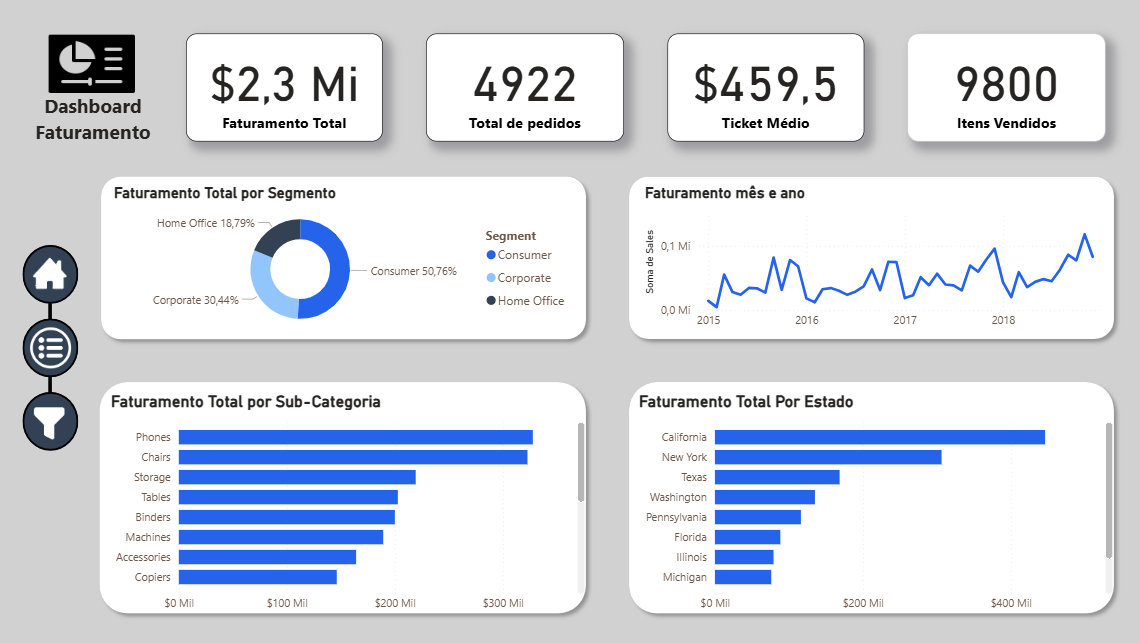

The page's visual inventory and layout, read from the dashboard file:
{"tool":"powerbi","page":{"name":"Visão Geral","canvas":[1280,720],"ordinal":1},"visuals":[{"type":"shape","box":[19.9,274.3,77.9,225],"z":0},{"type":"shape","box":[27.8,436.6,62,65.2],"z":1000},{"type":"shape","box":[27.8,355.4,62,65.2],"z":2000},{"type":"shape","box":[27.8,272.7,62,65.2],"z":3000},{"type":"image","box":[35.8,447.7,46.1,46.1],"z":4000},{"type":"image","box":[27.8,355.4,62,65.2],"z":5000},{"type":"image","box":[19.9,271.1,77.9,70],"z":6000},{"type":"textbox","box":[36.7,98.3,140,96.7],"z":7000},{"type":"image","box":[50,21.7,110,100],"z":8000},{"type":"shape","box":[105,416.7,558.3,275],"z":9000},{"type":"shape","box":[693.3,188.3,556.7,198.3],"z":10000},{"type":"shape","box":[106.6,187.7,556.7,198.8],"z":11000},{"type":"card","fields":{"Values":["Medidas.Itens Vendidos"]},"box":[1011.7,38.3,220,120],"z":12000},{"type":"card","fields":{"Values":["Medidas.Ticket Médio"]},"box":[745,38.3,218.3,120],"z":13000},{"type":"card","fields":{"Values":["Medidas.Total de pedidos"]},"box":[476.7,38.3,220,120],"z":14000},{"type":"card","fields":{"Values":["Medidas.Faturamento Total"]},"box":[210,38.3,218.3,120],"z":15000},{"type":"clusteredBarChart","title":"Faturamento Total por Sub-Categoria","fields":{"Category":["train.Sub-Category"],"Y":["Medidas.Faturamento Total"]},"box":[120.9,437.4,536,252.9],"z":16000},{"type":"donutChart","title":"Faturamento Total por Segmento","fields":{"Category":["train.Segment"],"Y":["Medidas.Faturamento Total"]},"box":[125.7,205.2,520.1,170.2],"z":17000},{"type":"shape","box":[693.3,416.7,556.7,275],"z":18000},{"type":"lineChart","title":"Faturamento mês e ano","fields":{"Y":["Sum(train.Sales)"],"Category":["train.Order Date.Variation.Hierarquia de datas.Ano","train.Order Date.Variation.Hierarquia de datas.Mês"]},"box":[715.8,205.2,520.1,170.2],"z":19000},{"type":"barChart","title":"Faturamento Total Por Estado","fields":{"Category":["train.State"],"Y":["Medidas.Faturamento Total"]},"box":[707.8,437.4,536,252.9],"z":21000}]}

Visuals, with their boxes in screenshot pixels (x1, y1, x2, y2), scaled from the page's 1280x720 canvas onto the 1140x643 screenshot:
shape: pyautogui.locateOnScreen(18, 245, 87, 446)
shape: pyautogui.locateOnScreen(25, 390, 80, 448)
shape: pyautogui.locateOnScreen(25, 317, 80, 376)
shape: pyautogui.locateOnScreen(25, 244, 80, 302)
image: pyautogui.locateOnScreen(32, 400, 73, 441)
image: pyautogui.locateOnScreen(25, 317, 80, 376)
image: pyautogui.locateOnScreen(18, 242, 87, 305)
textbox: pyautogui.locateOnScreen(33, 88, 157, 174)
image: pyautogui.locateOnScreen(45, 19, 142, 109)
shape: pyautogui.locateOnScreen(94, 372, 591, 618)
shape: pyautogui.locateOnScreen(617, 168, 1113, 345)
shape: pyautogui.locateOnScreen(95, 168, 591, 345)
card - Medidas.Itens Vendidos: pyautogui.locateOnScreen(901, 34, 1097, 141)
card - Medidas.Ticket Médio: pyautogui.locateOnScreen(664, 34, 858, 141)
card - Medidas.Total de pedidos: pyautogui.locateOnScreen(425, 34, 620, 141)
card - Medidas.Faturamento Total: pyautogui.locateOnScreen(187, 34, 381, 141)
"Faturamento Total por Sub-Categoria" clusteredBarChart: pyautogui.locateOnScreen(108, 391, 585, 616)
"Faturamento Total por Segmento" donutChart: pyautogui.locateOnScreen(112, 183, 575, 335)
shape: pyautogui.locateOnScreen(617, 372, 1113, 618)
"Faturamento mês e ano" lineChart: pyautogui.locateOnScreen(638, 183, 1101, 335)
"Faturamento Total Por Estado" barChart: pyautogui.locateOnScreen(630, 391, 1108, 616)
